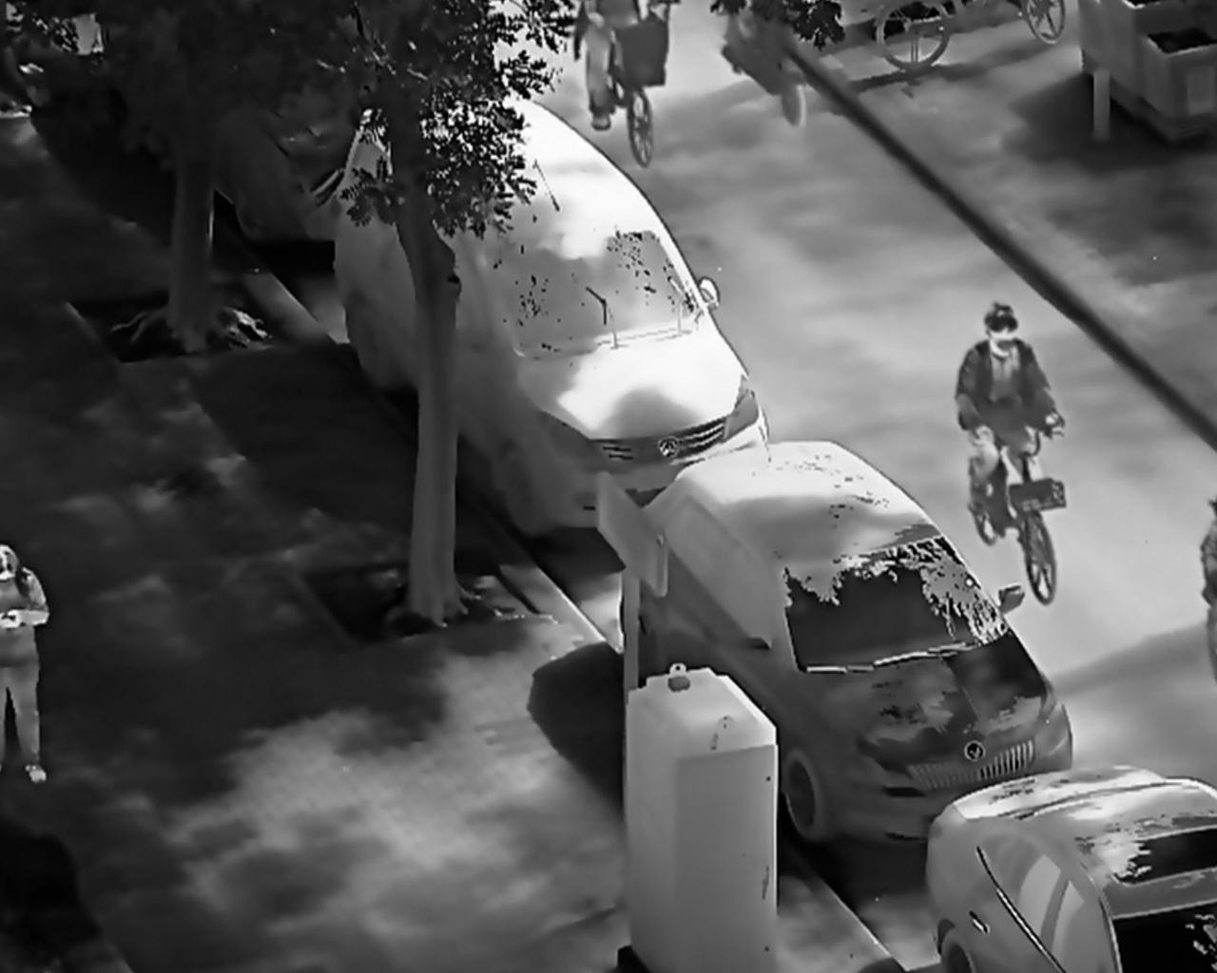person: (953, 296, 1066, 552)
